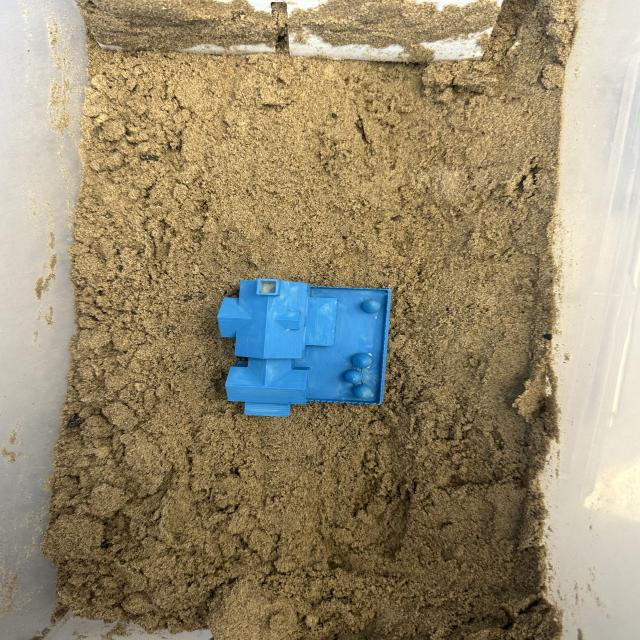house: (217, 277, 395, 417)
